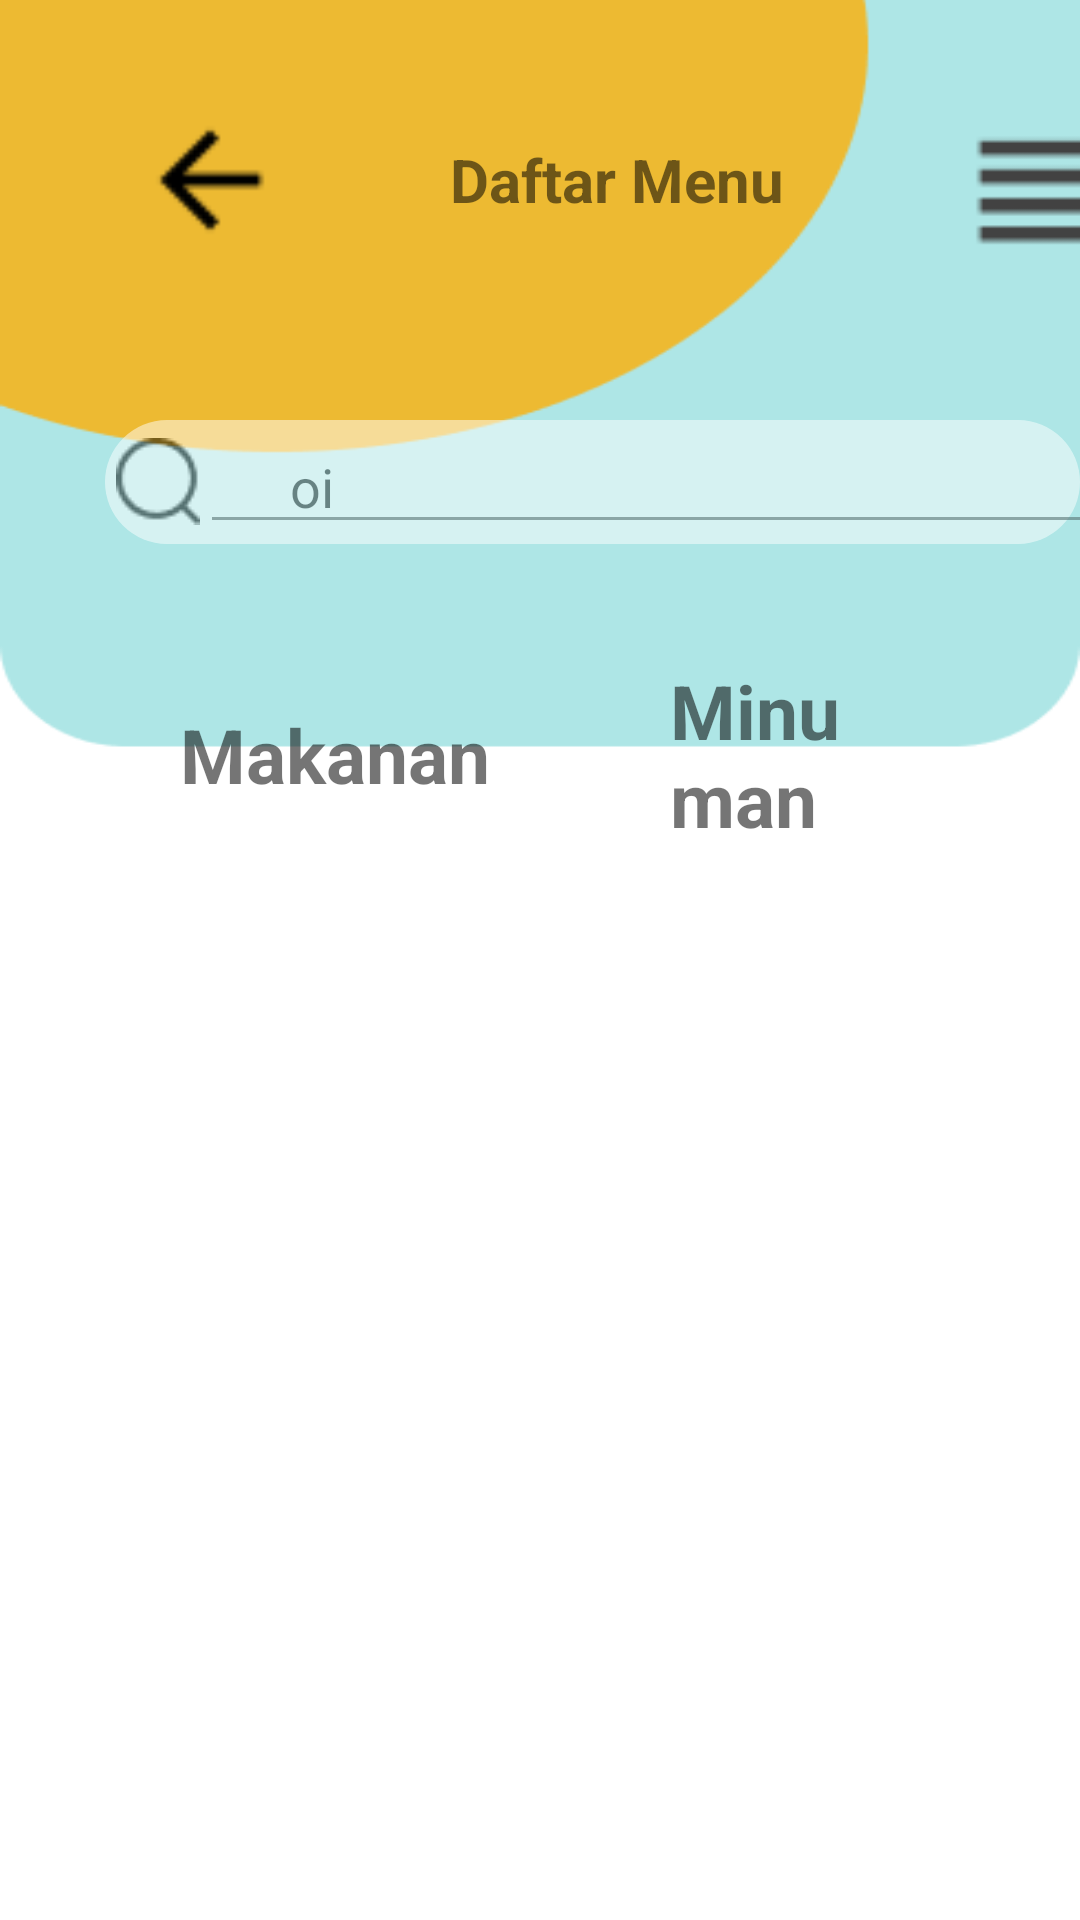

Point at icon controls on the screen. Image size 1080px x 1920px, points as point (x, y).
arrow back: point (212, 180)
